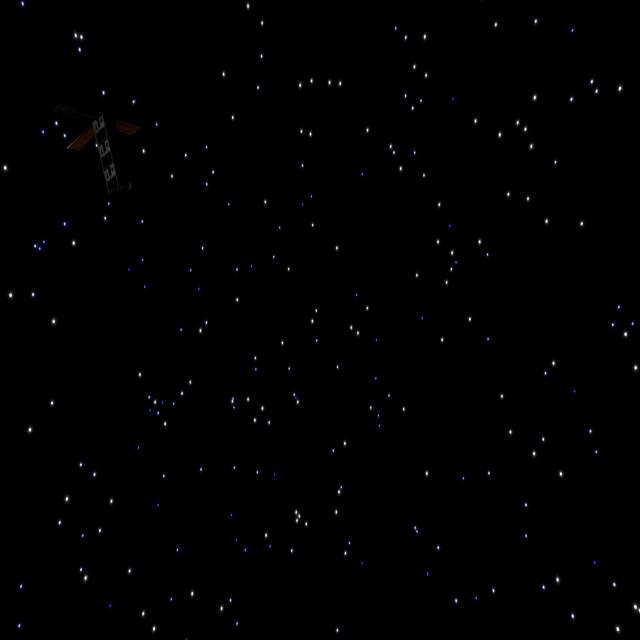satellite: (62, 100, 159, 186)
